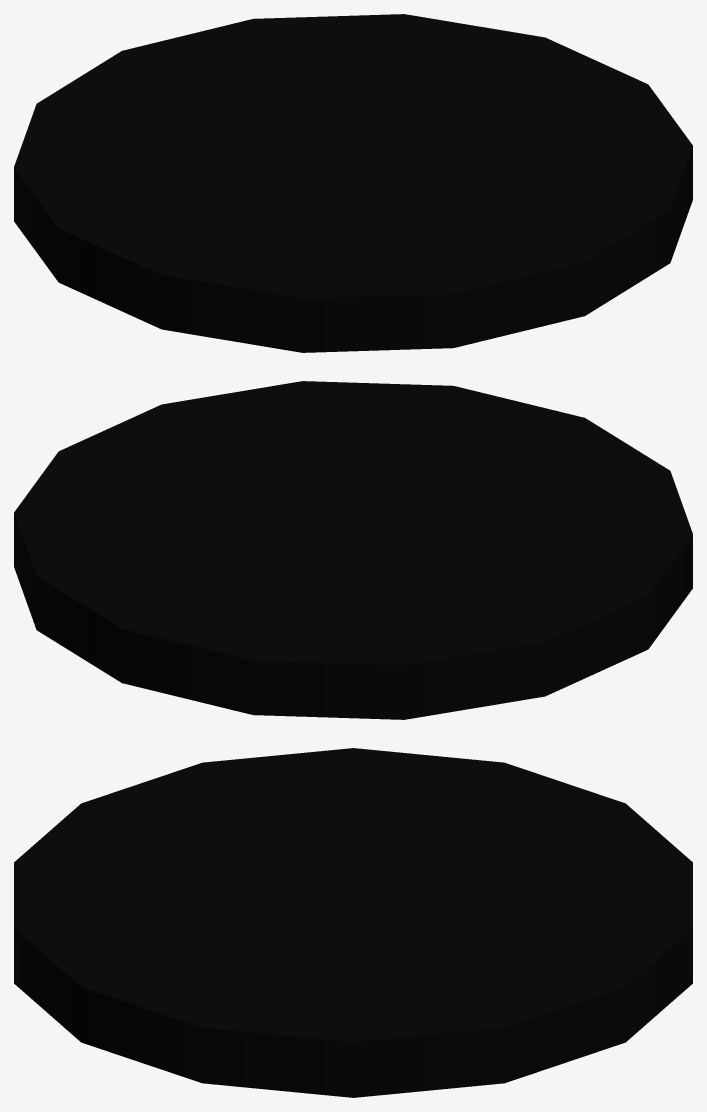
The model's file is coin_gold.glb.
3 renders of one model, top to bottom at view 1: azimuth 30°, elevation 25°; view 2: azimuth 150°, elevation 25°; view 3: azimuth 270°, elevation 25°, orthographic. The views are drawn at different scales.
Visible parts, largest first — view 1: coin_gold; view 2: coin_gold; view 3: coin_gold.
Part boxes in pixels (<box>): coin_gold: <box>14,14,692,352</box>; coin_gold: <box>14,381,692,719</box>; coin_gold: <box>14,748,692,1097</box>.
Size of the model in its own units: 0.025 by 0.0022 by 0.0244.
